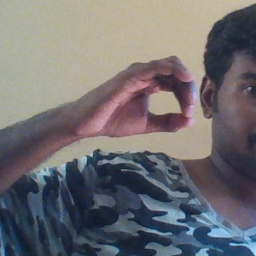O: (76, 54, 197, 140)
